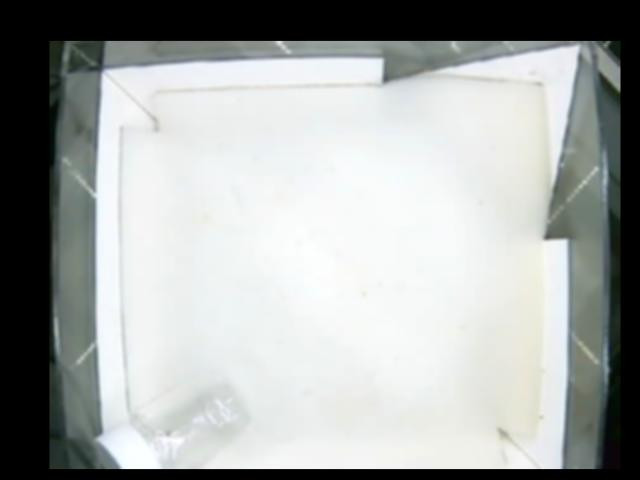Bottle: (94, 364, 250, 469)
